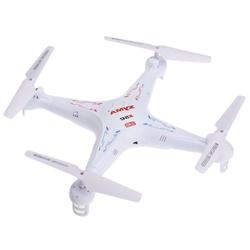drone: (4, 34, 245, 217)
